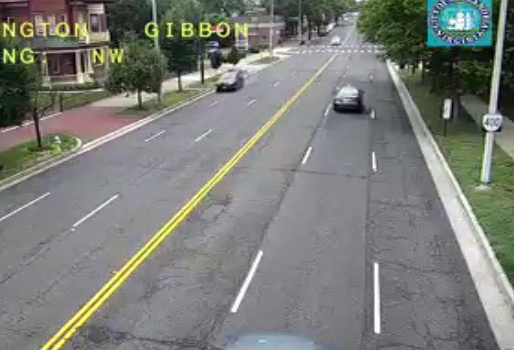car: (333, 88, 363, 110)
